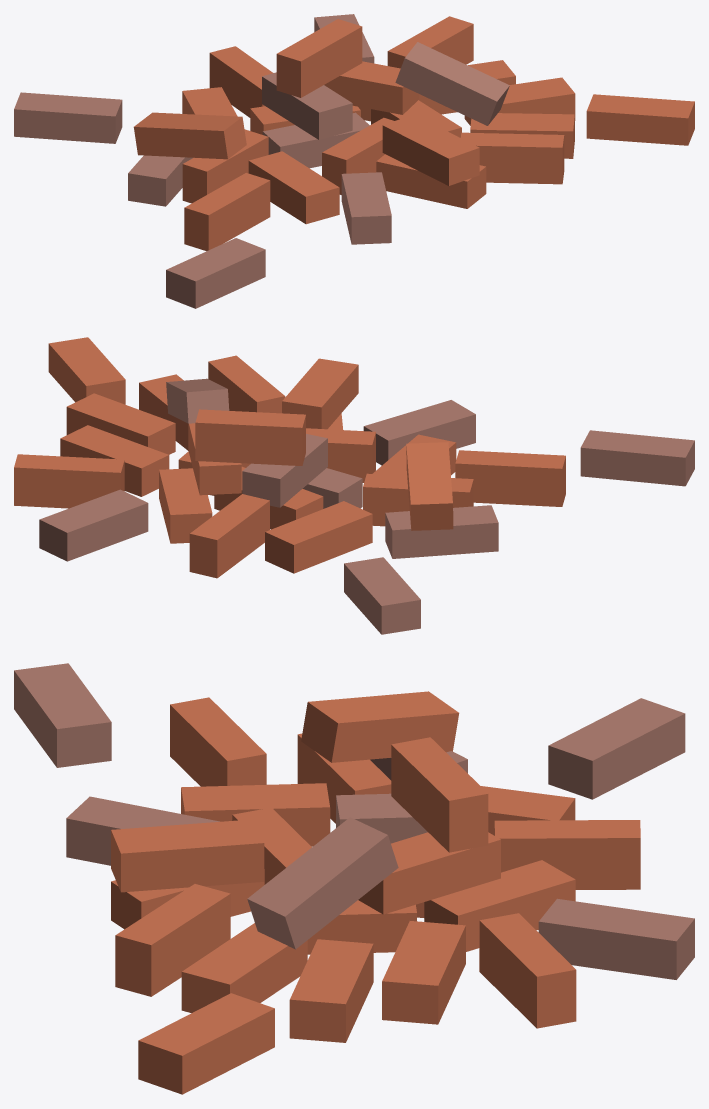
The model's file is Brick_Pile_m_07.fbx.
The picture shows the model from 3 angles, top to bottom: view 1: azimuth 30°, elevation 25°; view 2: azimuth 150°, elevation 25°; view 3: azimuth 270°, elevation 25°; orthographic projection. The views are drawn at different scales.
Visible parts, largest first — view 1: Brick_Pile_m_07; view 2: Brick_Pile_m_07; view 3: Brick_Pile_m_07.
Part boxes in pixels (box(x1,y1,x2,y2)): Brick_Pile_m_07: box(14, 14, 694, 308); Brick_Pile_m_07: box(14, 337, 694, 634); Brick_Pile_m_07: box(14, 663, 694, 1094).
Size of the model in its own units: 1.63 by 0.25 by 1.19.
